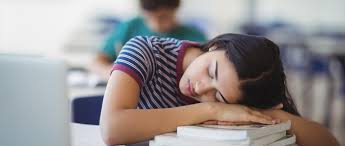sleeping: (108, 24, 280, 134)
